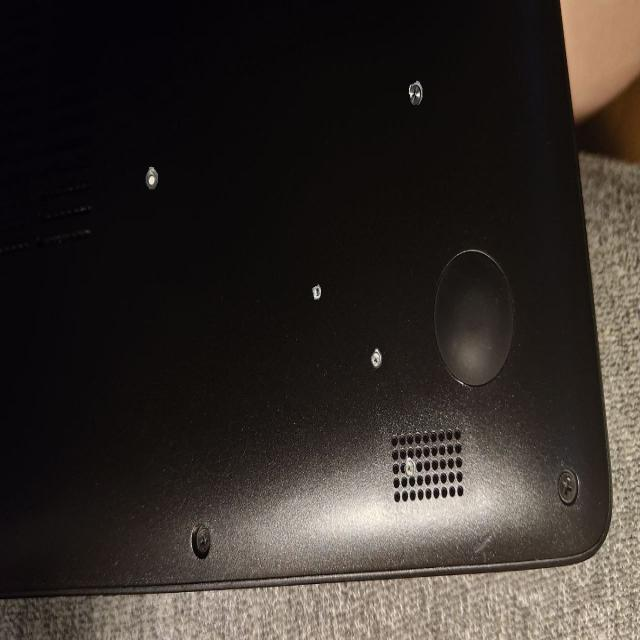lock: (408, 80, 422, 105), (370, 348, 382, 367), (404, 457, 415, 476)
missing_screw: (145, 166, 158, 189), (312, 284, 321, 300)
